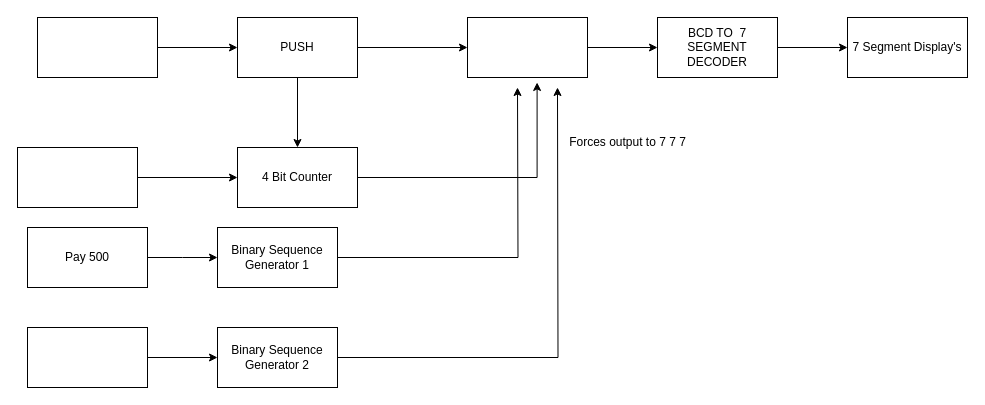
This 985x405 diagram has some shape labels left out. The box of each missing label's shape, as (x1, y1, x2, y2) in pixels:
Pay 5000: (26, 326, 148, 388)
Random Number Generator: (466, 16, 588, 78)
Reset: (16, 146, 138, 208)
START: (36, 16, 158, 78)
